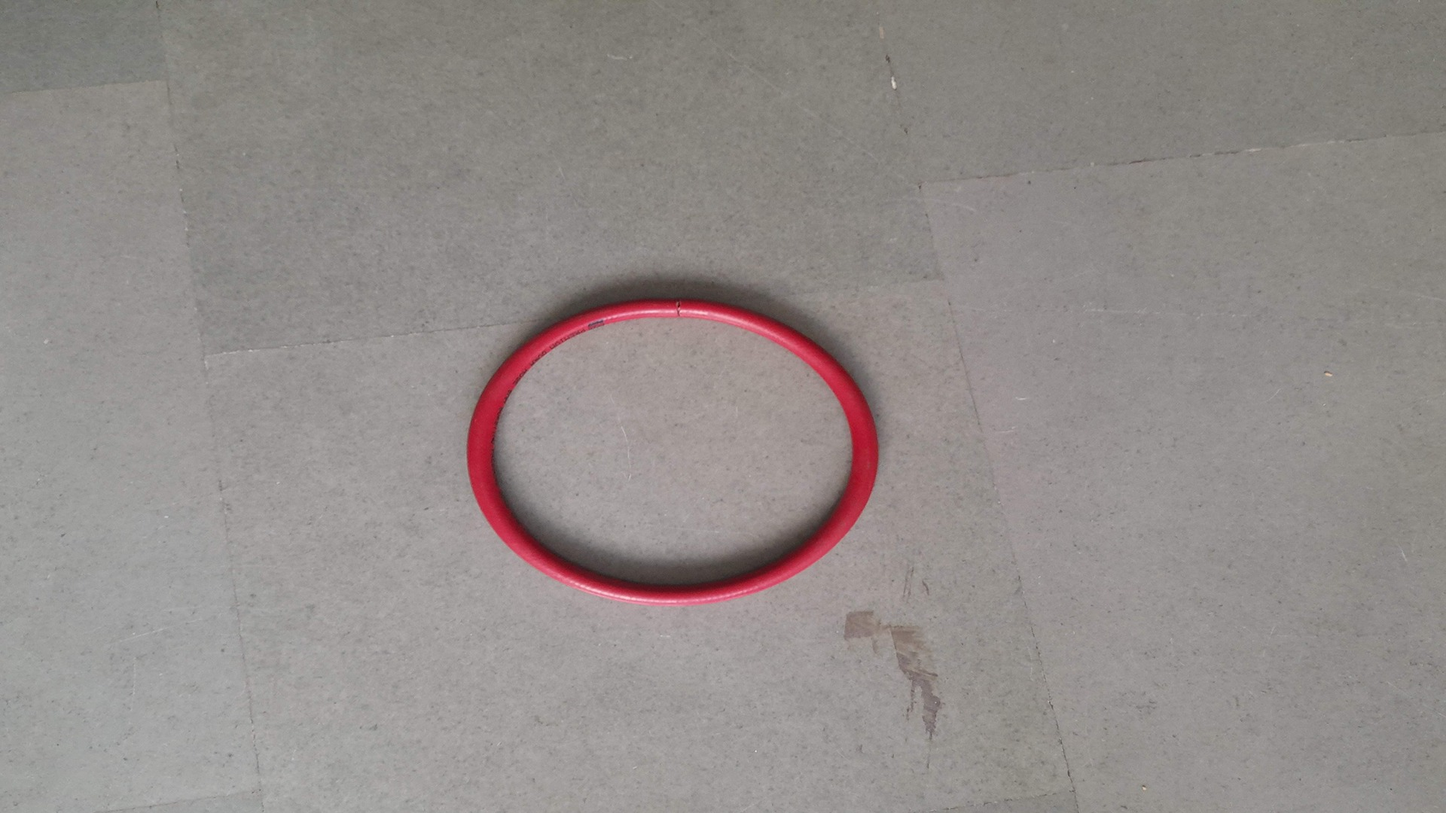Red ring: (465, 300, 880, 609)
